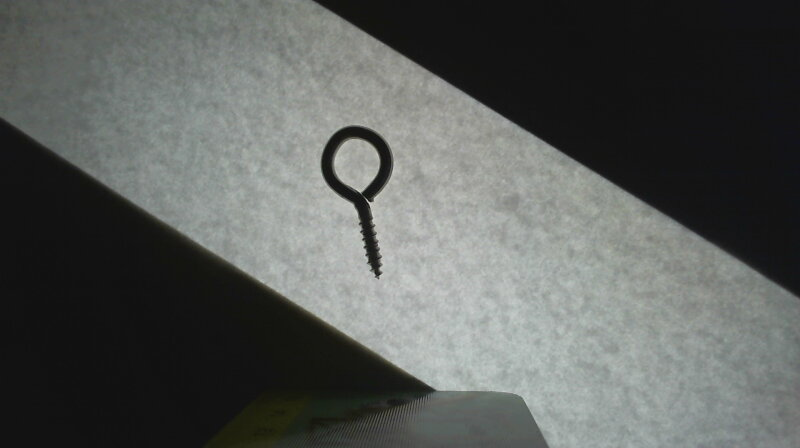O001: (315, 122, 396, 282)
